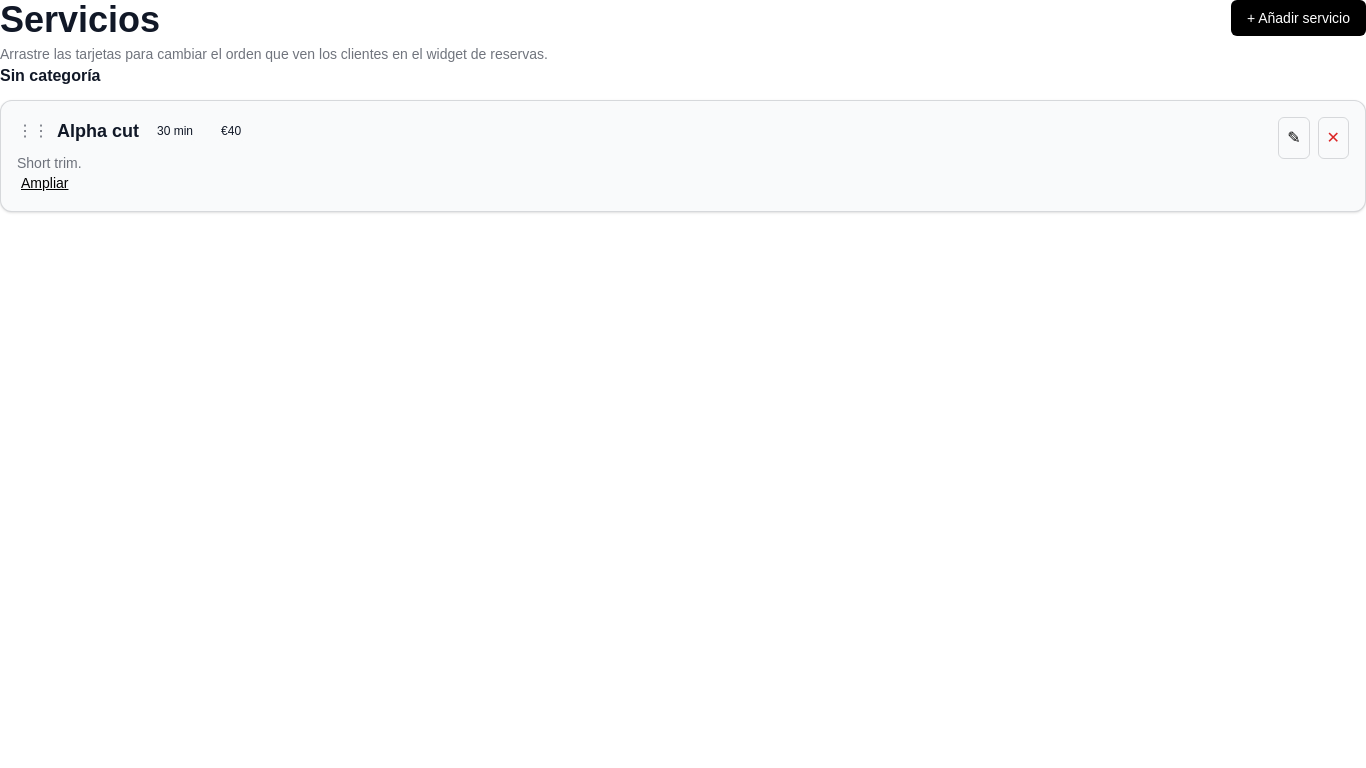
Test: AdminServicesPage › edit and delete › removes a service after confirming delete
The image size is (1366, 768).
Click the button "✕" at (1333, 138), box [1318,117,1349,159]
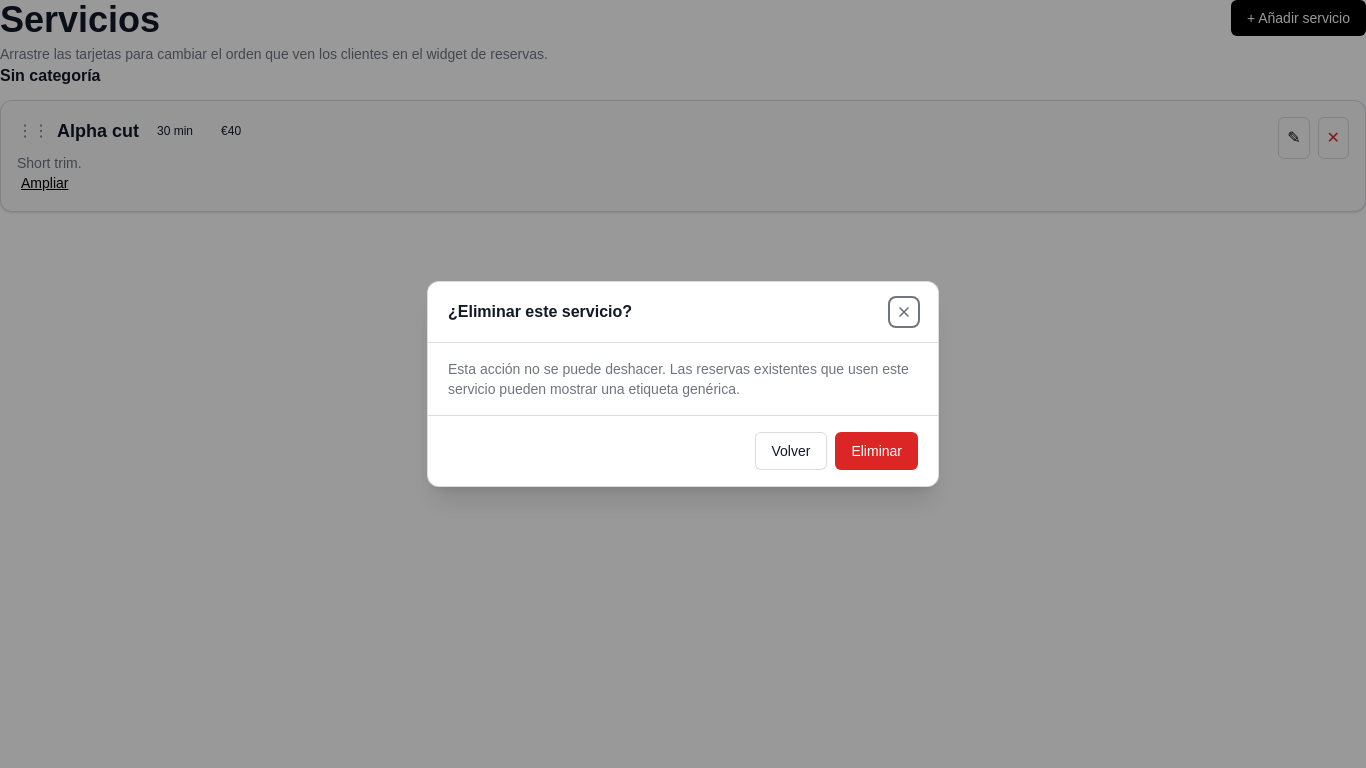
expect the heading "¿Eliminar este servicio?" is shown: met, box [448,300,632,324]
Click the button "Eliminar" at (877, 451), box [835,432,918,470]
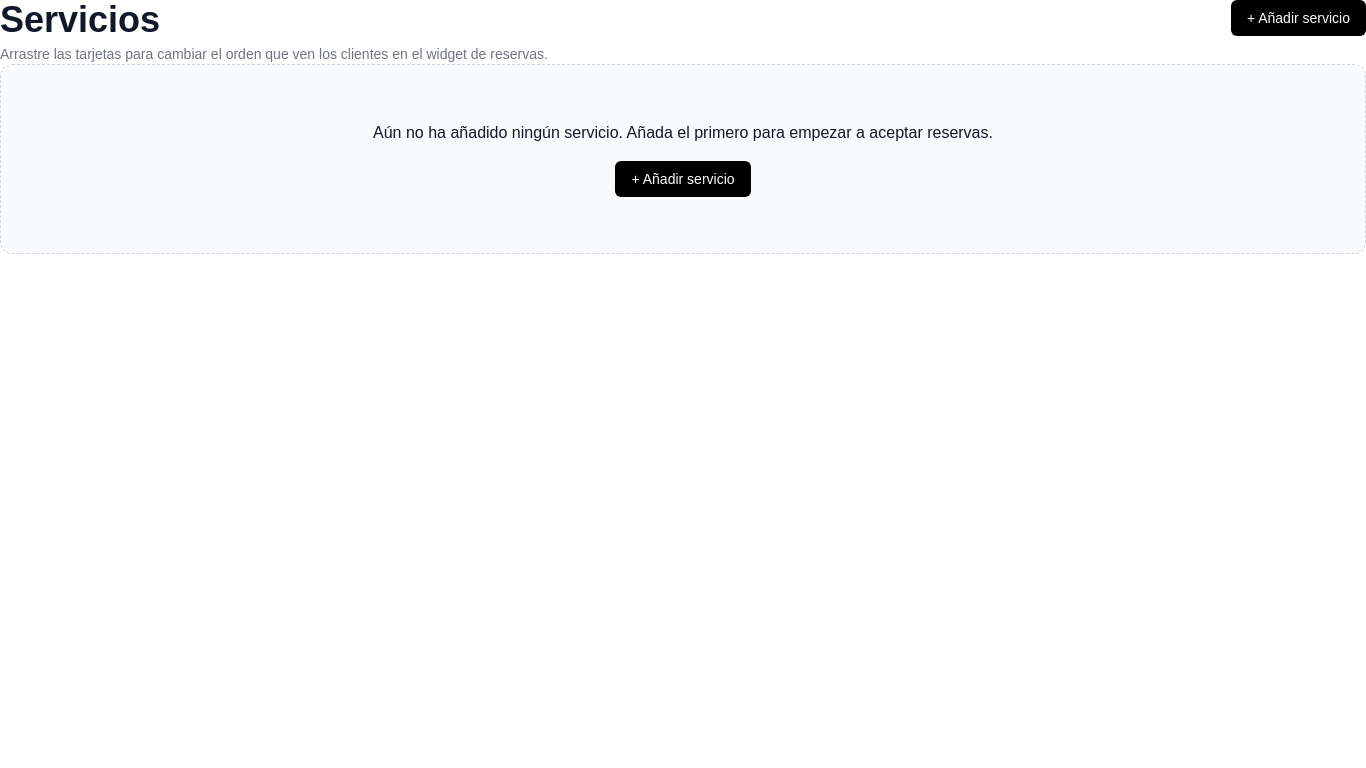
expect the heading "Alpha cut" is gone: met
expect the text "Aún no ha añadido ningún servicio. Añada el primero para empezar a aceptar reservas." is shown: met, box [373,124,993,141]
